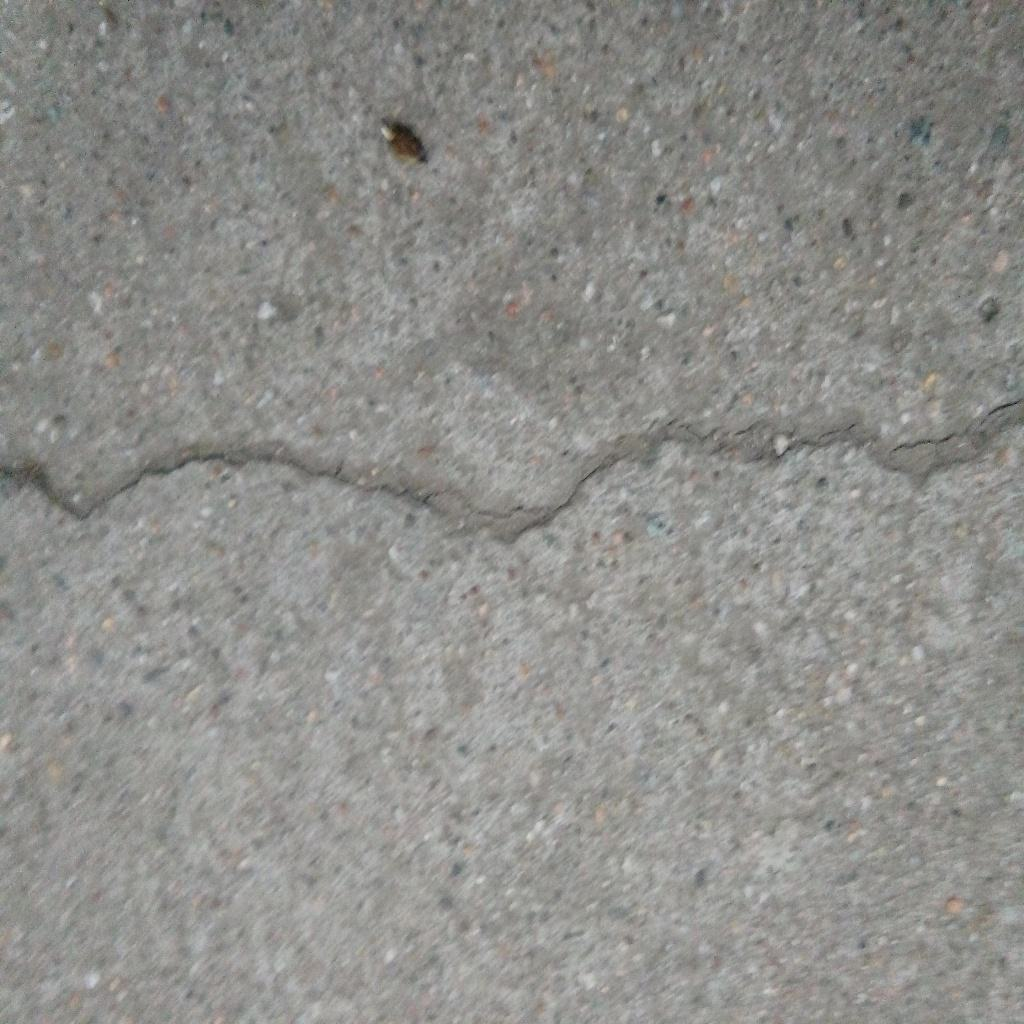Crack: (1, 398, 1024, 548)
